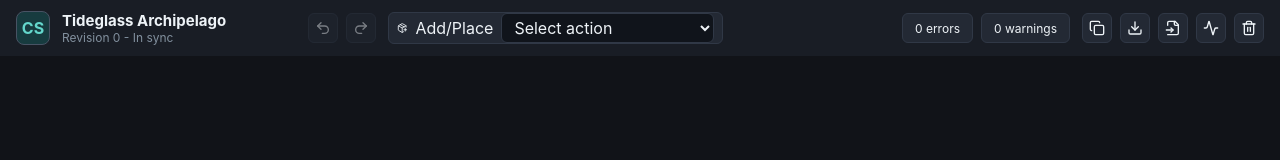
Test: rendered surface equivalence classes › shows an inline toolbar error when clipboard copy is unavailable
Click the button named "Copy JSON". click: (1097, 28)
box: [1082,13,1112,43]
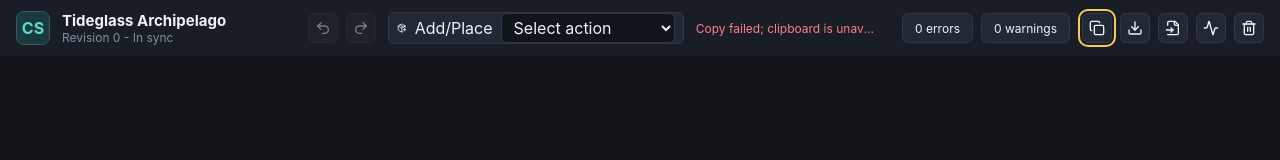
Check: the message reads "Copy failed; clipboard is unavailable.", box [696,20,904,36]
